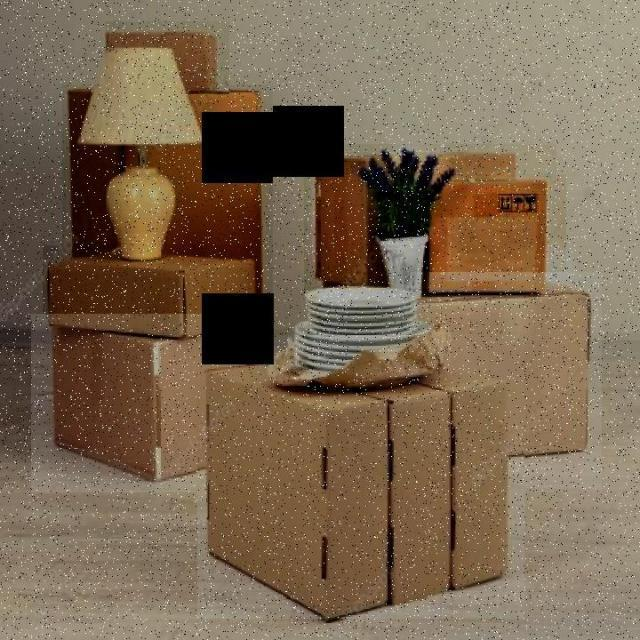box: (198, 336, 524, 620), (62, 84, 273, 370), (410, 272, 602, 492), (31, 314, 258, 492), (304, 144, 557, 293), (43, 245, 260, 342), (423, 174, 566, 320), (105, 21, 229, 107)
